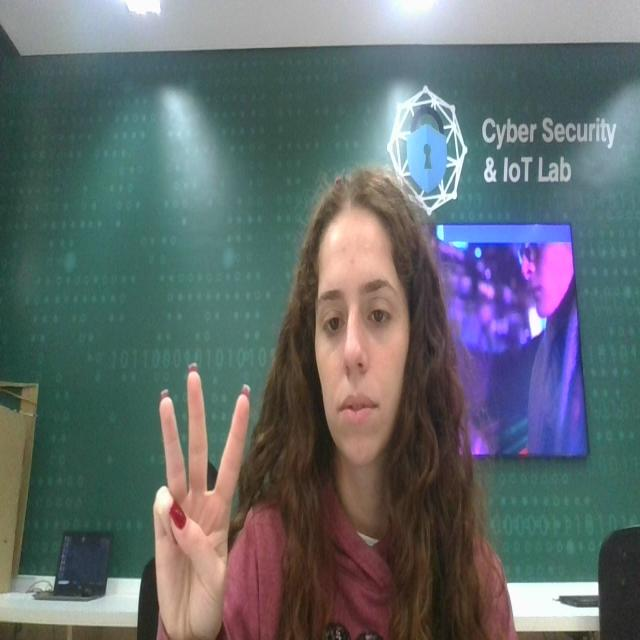W: (140, 349, 254, 638)
